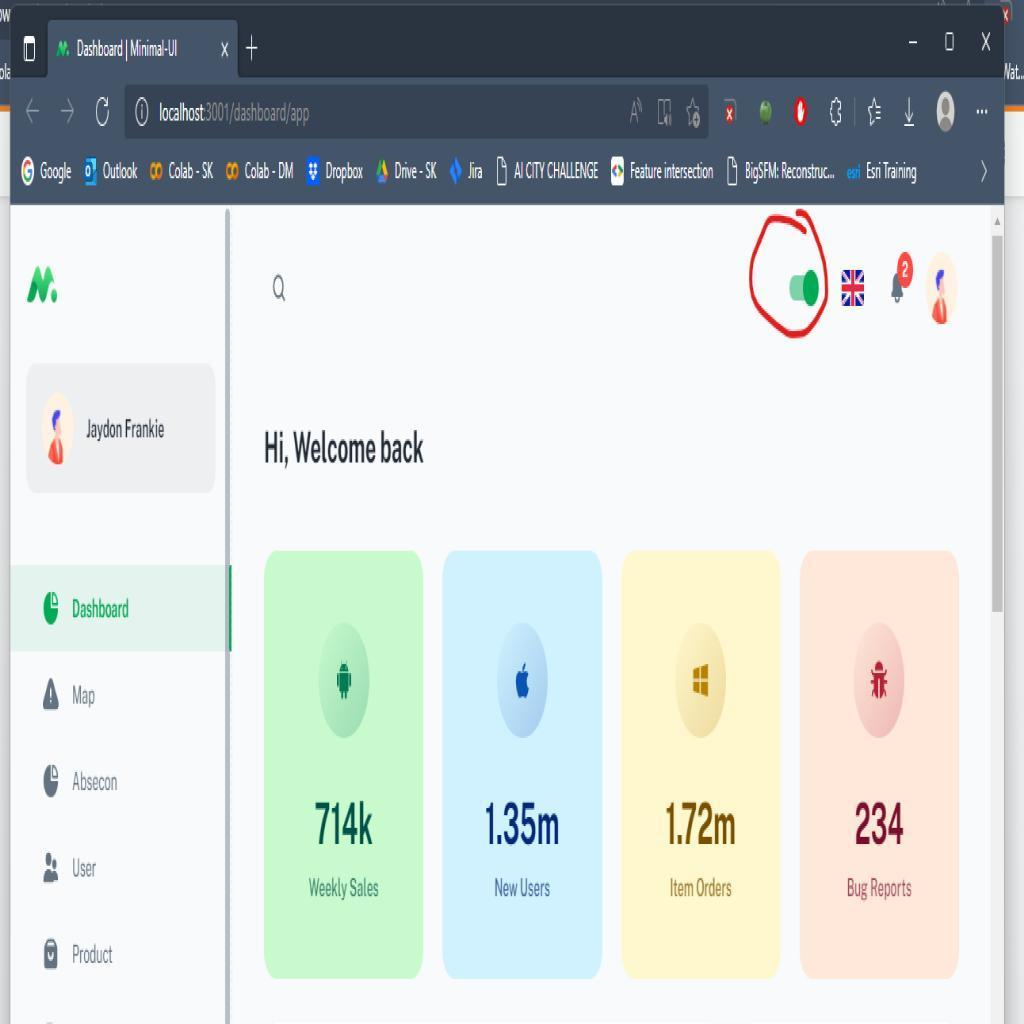button: (11, 567, 231, 651)
icon: (885, 251, 918, 308), (39, 678, 67, 717), (40, 764, 64, 802), (270, 273, 291, 307), (44, 852, 63, 888), (42, 940, 62, 973)
label: (265, 425, 433, 472), (72, 769, 126, 797), (69, 942, 119, 969), (70, 682, 101, 711), (72, 855, 100, 882)
switch: (785, 266, 820, 313)
